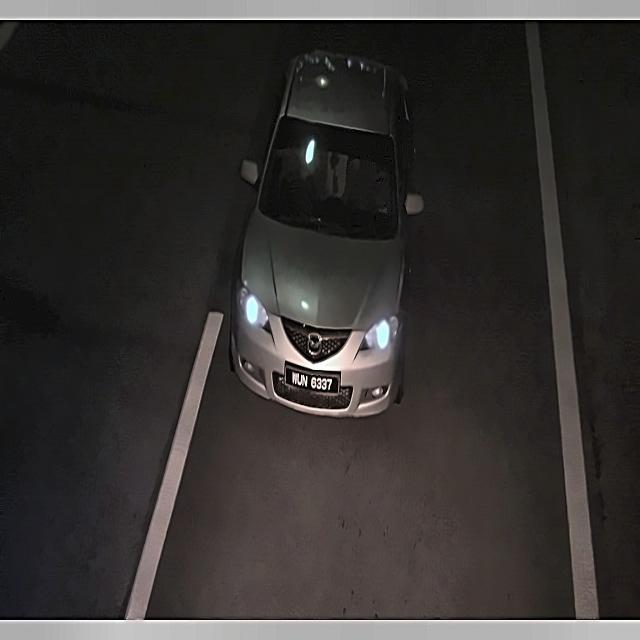car: (282, 361, 341, 403)
